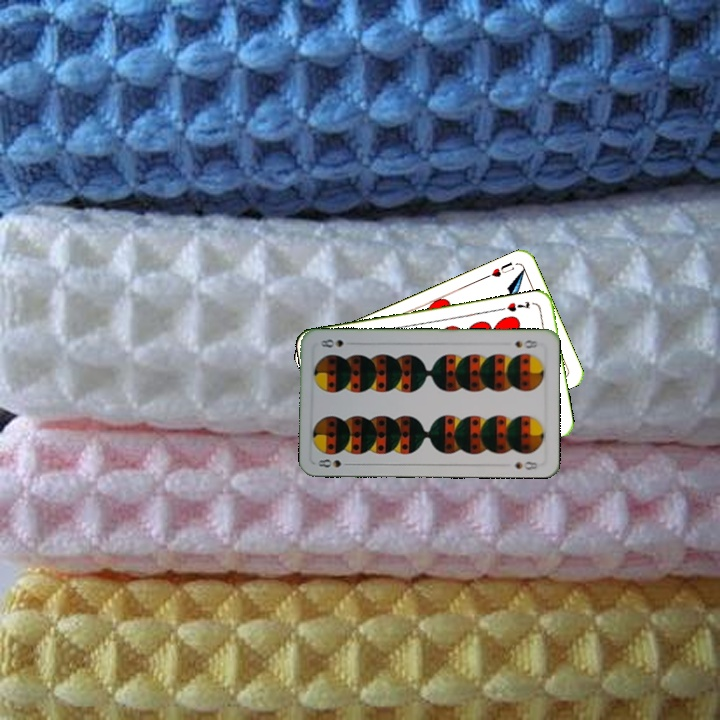H7: (503, 297, 532, 314)
HU: (481, 258, 517, 281)
S8: (314, 455, 354, 470), (510, 335, 540, 351)
